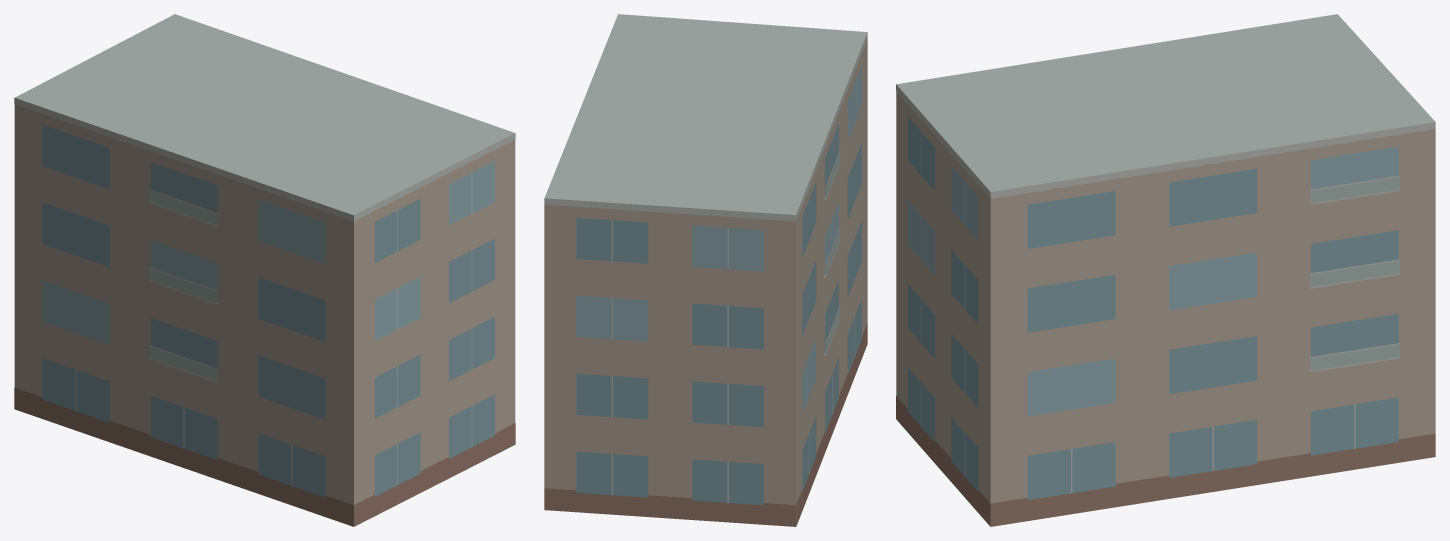
Rendered from survey-upis-32834261.glb.
3 views of the same model, side by side, from view 1: azimuth 30°, elevation 25°; view 2: azimuth 150°, elevation 25°; view 3: azimuth 270°, elevation 25° (orthographic). The views are drawn at different scales.
Parts seen in each view (by area): view 1: survey-upis-32834261.tmp; view 2: survey-upis-32834261.tmp; view 3: survey-upis-32834261.tmp.
Part boxes in pixels (x1,y1,x2,y2): survey-upis-32834261.tmp: (14, 14, 515, 526); survey-upis-32834261.tmp: (544, 14, 867, 526); survey-upis-32834261.tmp: (896, 14, 1435, 526).
Bounding box in the file's own units: 13.69 × 12 × 17.53.
